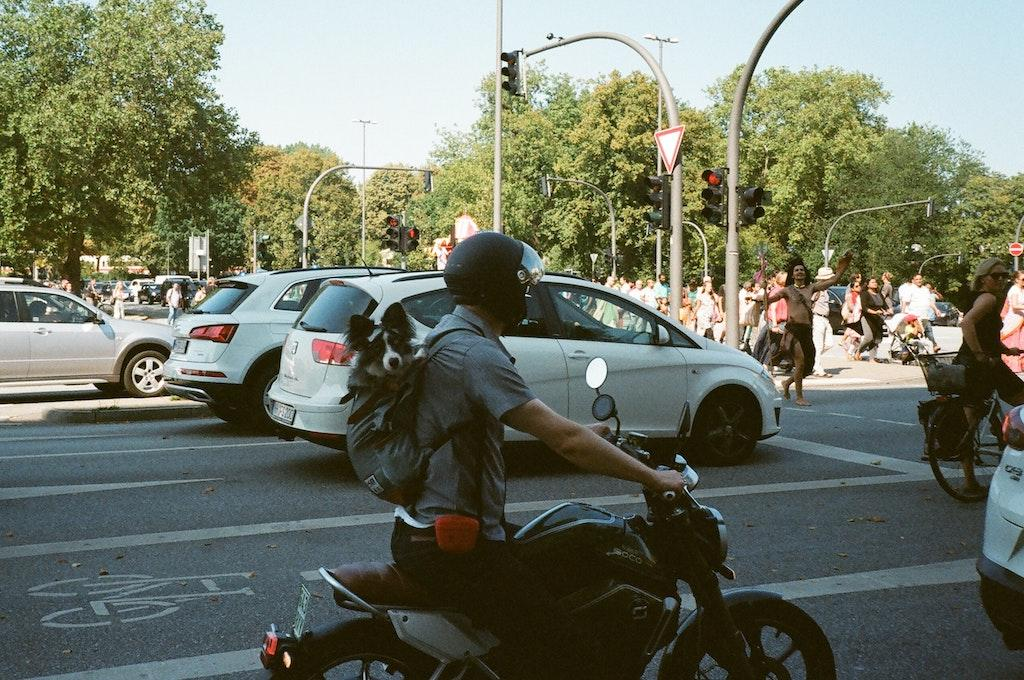helmet: (442, 231, 546, 337)
